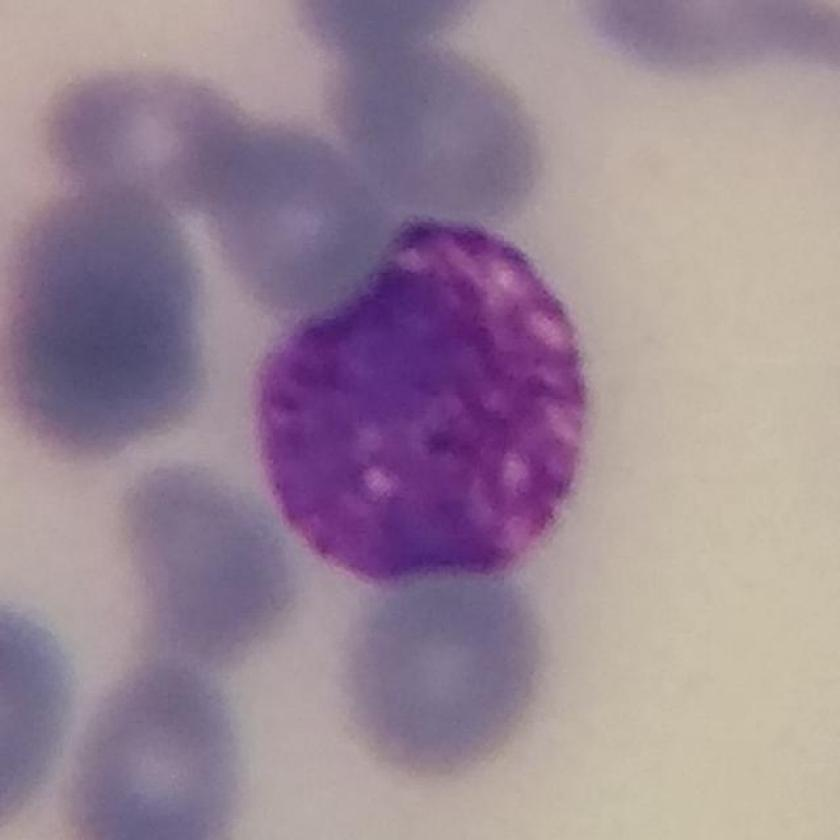basophil: (256, 201, 598, 600)
